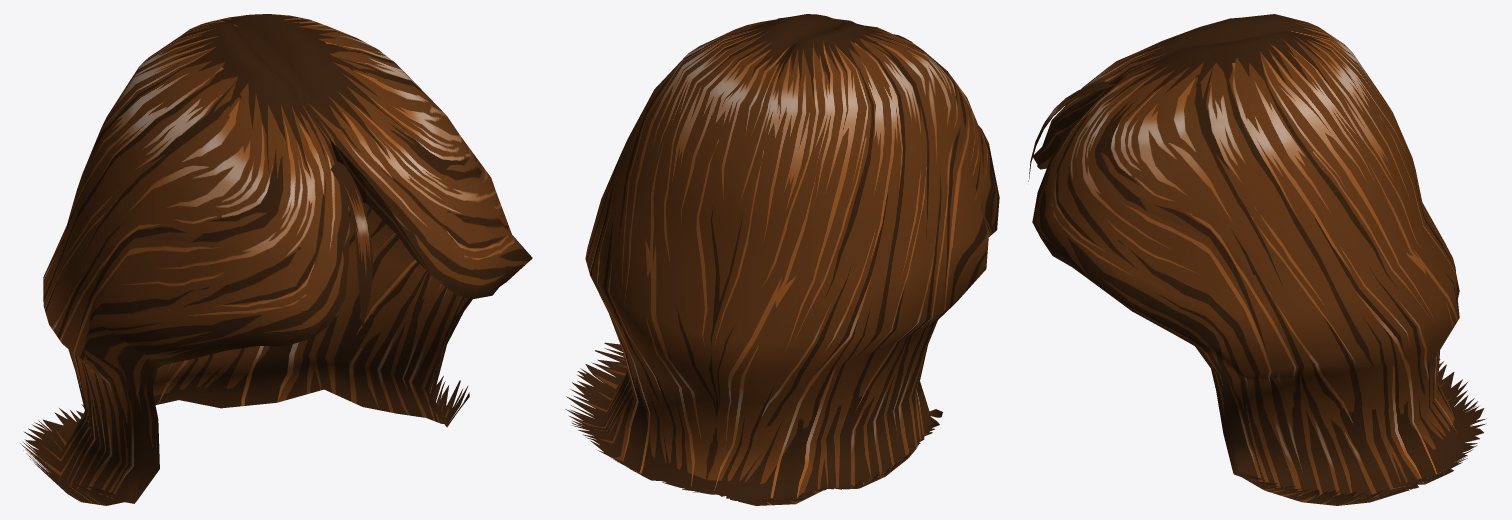
3 renders of one model, left to right at view 1: azimuth 30°, elevation 25°; view 2: azimuth 150°, elevation 25°; view 3: azimuth 270°, elevation 25°, orthographic. The views are drawn at different scales.
Visible parts, largest first — view 1: hg_000_model; view 2: hg_000_model; view 3: hg_000_model.
Boxes of the visible parts, x1,y1,x2,y2 form: hg_000_model: (20,14,532,505); hg_000_model: (565,14,999,505); hg_000_model: (1028,14,1486,505).
Size of the model in its own units: 66.45 by 69.79 by 71.83.
1 material, 1 textured.
